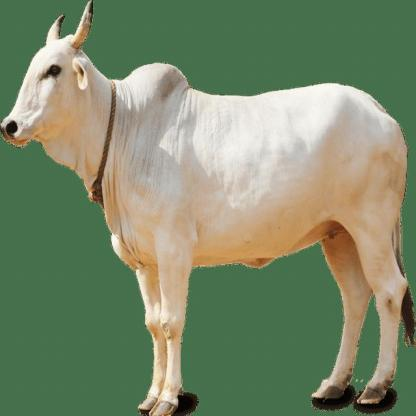cow: (1, 0, 414, 416)
